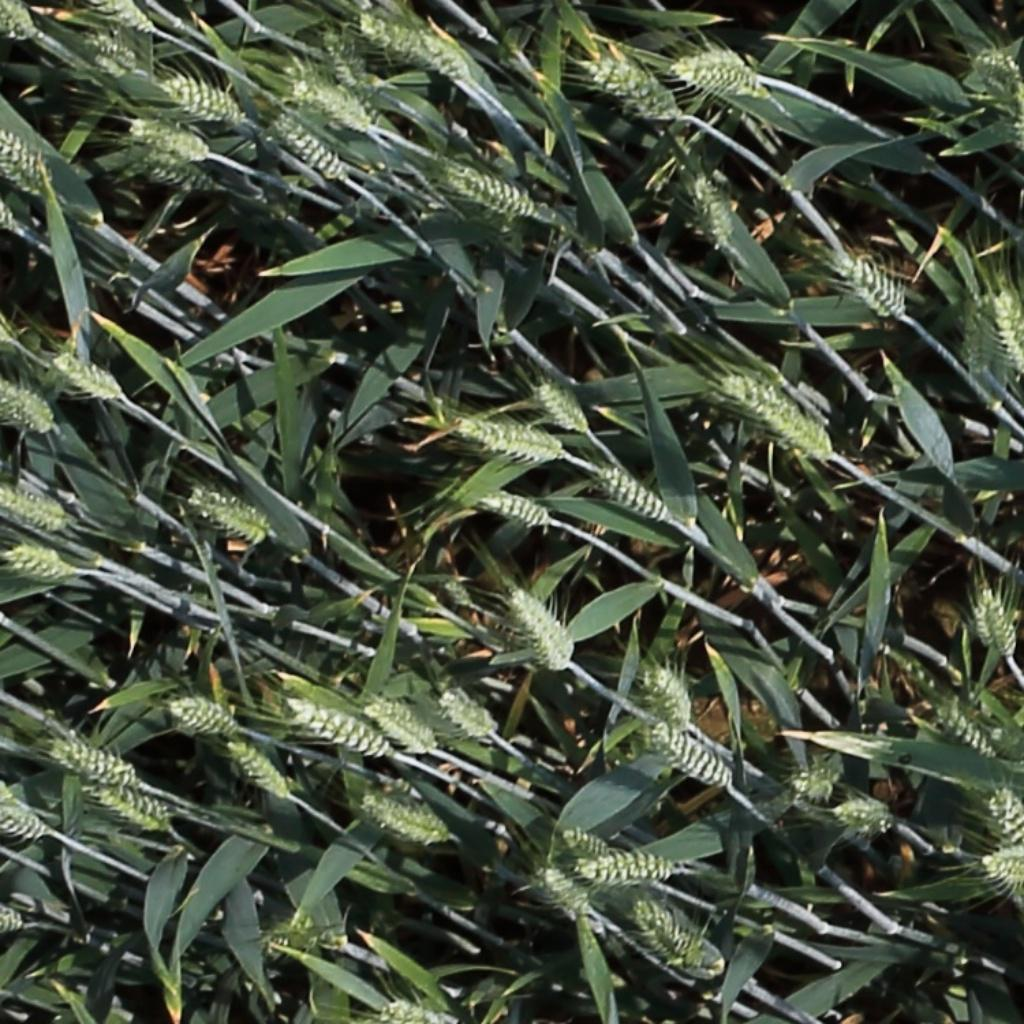0-0: (724, 374, 835, 457), (626, 895, 728, 982), (582, 47, 682, 125), (363, 15, 466, 79), (964, 49, 1024, 158), (509, 582, 576, 674), (450, 415, 567, 466), (188, 488, 277, 552), (288, 700, 386, 757), (274, 107, 349, 180), (653, 724, 735, 790), (47, 731, 140, 787), (78, 776, 170, 832), (673, 43, 771, 95), (831, 257, 913, 319), (361, 789, 450, 843), (450, 166, 544, 217), (595, 465, 677, 522), (573, 845, 683, 887), (225, 738, 293, 804), (928, 700, 999, 763), (643, 662, 699, 733), (0, 372, 56, 440), (318, 21, 370, 94), (367, 700, 436, 755), (241, 919, 320, 967), (159, 75, 243, 120), (296, 77, 372, 126), (51, 352, 125, 402), (973, 584, 1019, 664), (784, 749, 846, 806), (694, 169, 738, 249), (987, 284, 1024, 379), (561, 823, 628, 875), (535, 378, 593, 436), (164, 691, 240, 735), (126, 118, 211, 155), (961, 292, 996, 381), (140, 150, 219, 188), (0, 484, 66, 527), (438, 690, 498, 737), (539, 866, 593, 918), (987, 783, 1024, 857), (0, 122, 46, 177), (0, 797, 57, 841), (479, 495, 554, 525), (4, 547, 72, 578), (83, 30, 136, 68), (976, 845, 1024, 886), (106, 1, 157, 32), (380, 1003, 445, 1024), (0, 0, 34, 38), (0, 161, 16, 230), (0, 904, 29, 934), (0, 757, 16, 806), (0, 285, 13, 345), (446, 579, 471, 608)
